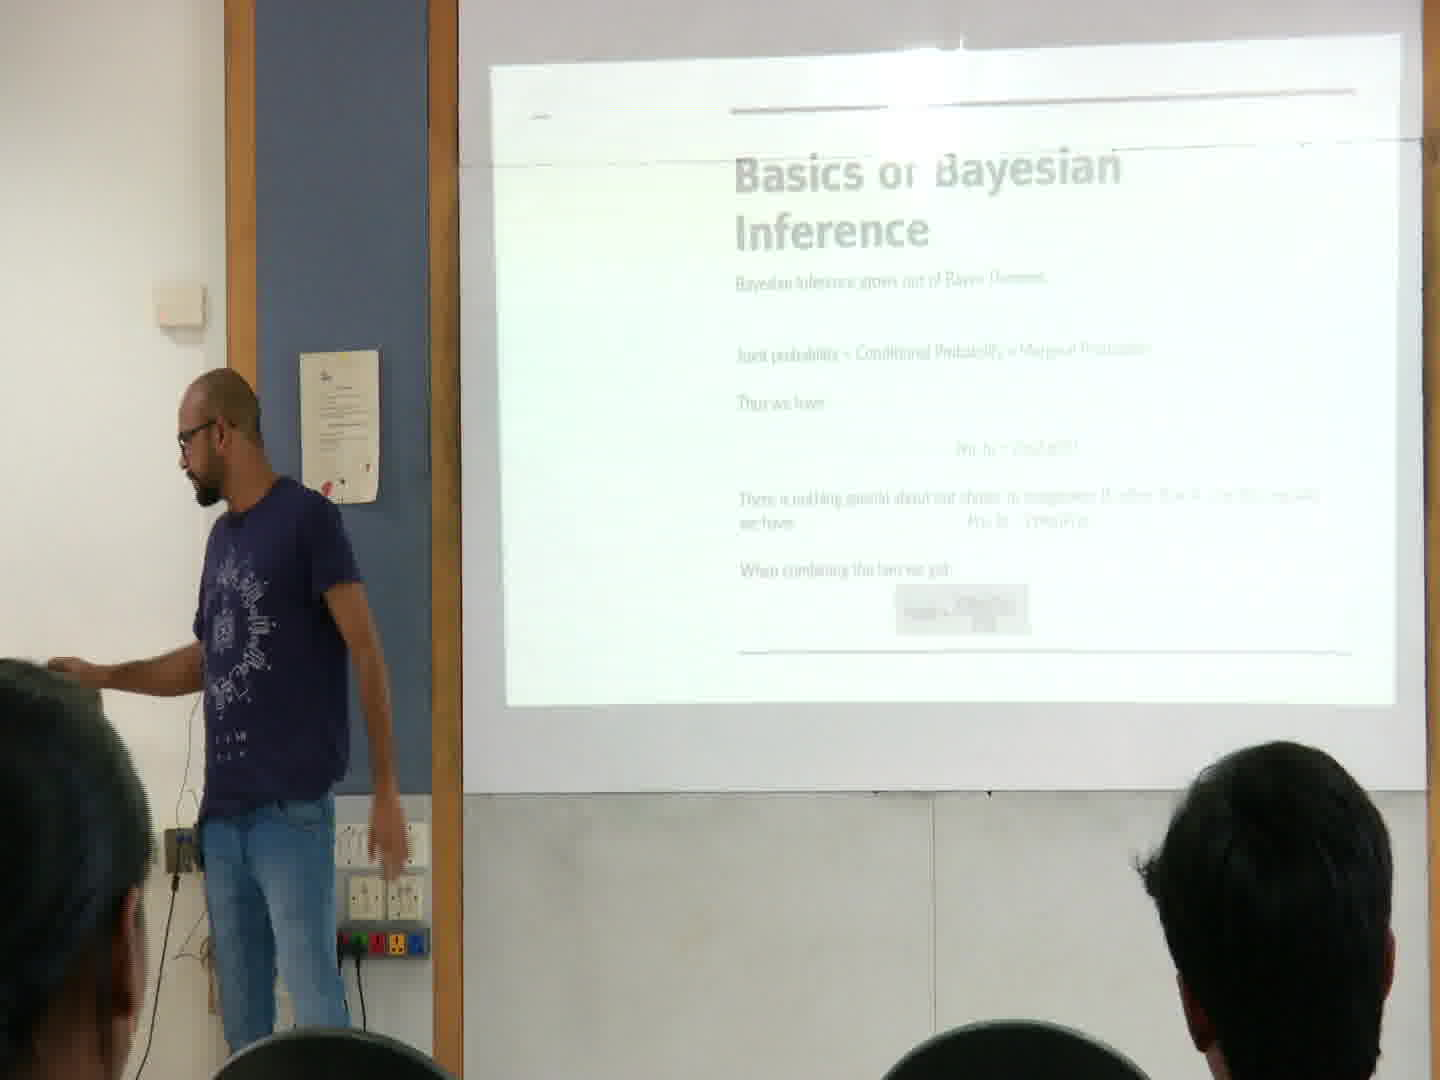eq: (892, 585, 1030, 636), (950, 432, 1085, 464)
